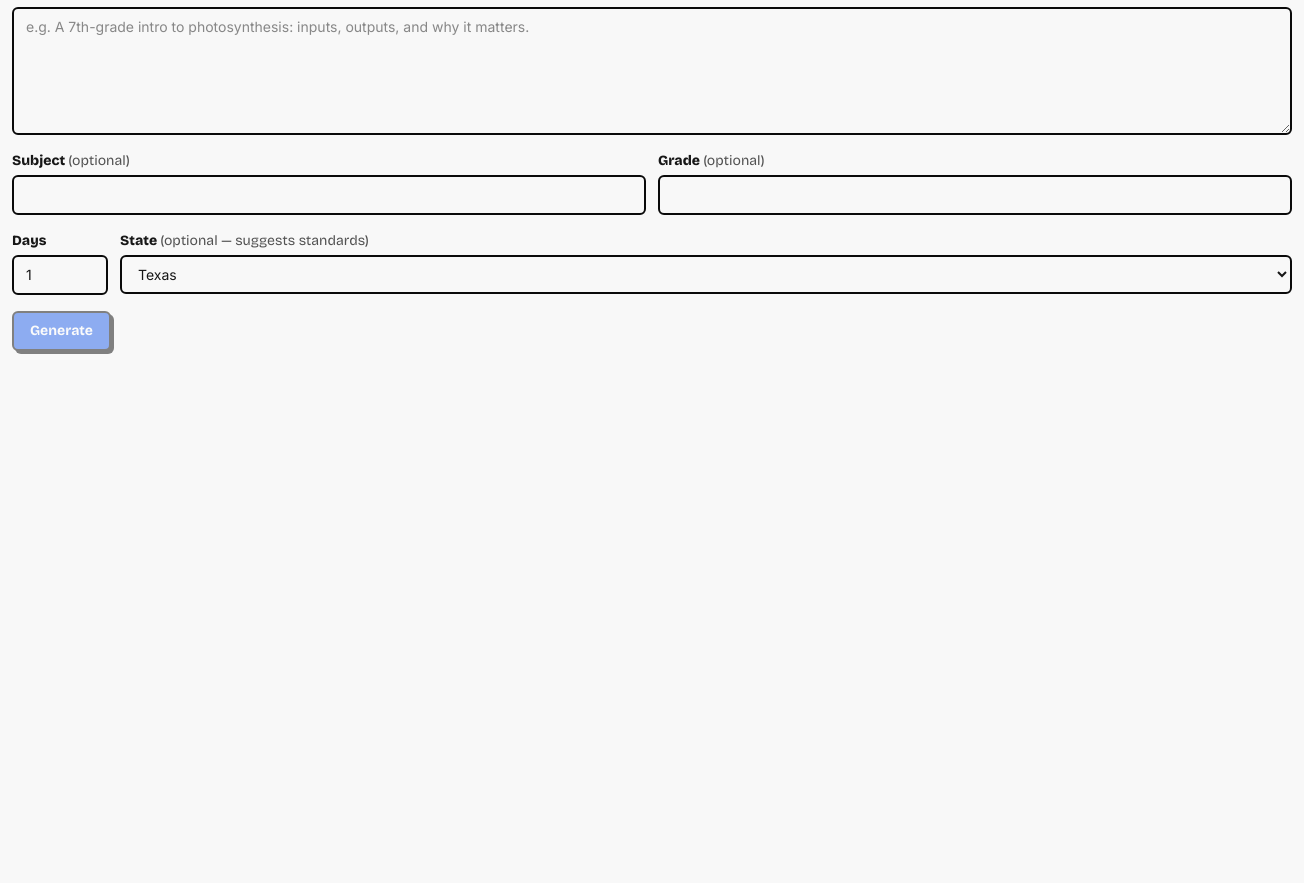
it: GenerateLessonStudio › submits the description + class_id + state and then shows the review editor
Replace the text in the text box labelled "What should this lesson teach?" with "Teach adding fractions": {"x": 652, "y": 71} x1=12 y1=7 x2=1292 y2=135
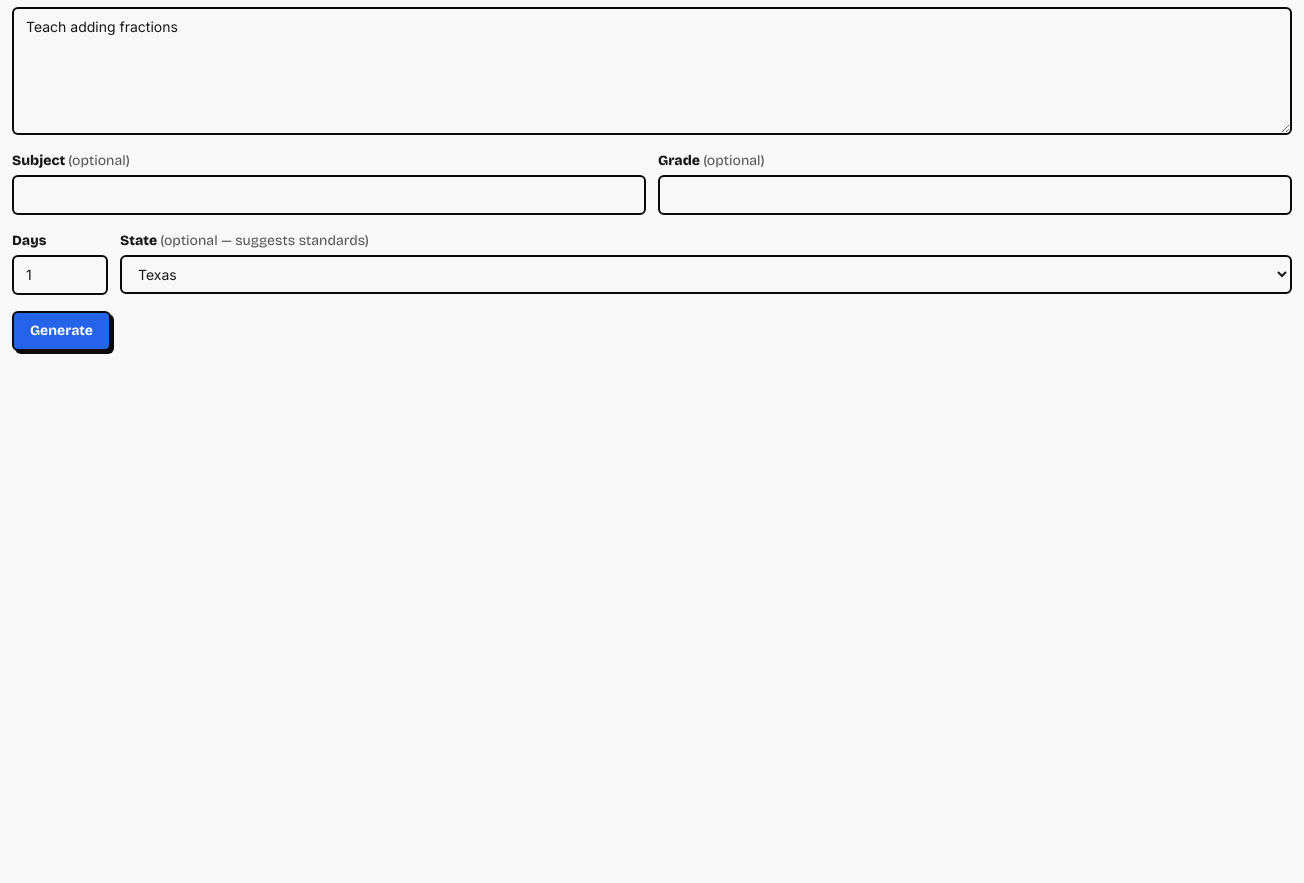
Click the button "Generate": {"x": 62, "y": 331} x1=12 y1=311 x2=111 y2=351
(page scrolled)
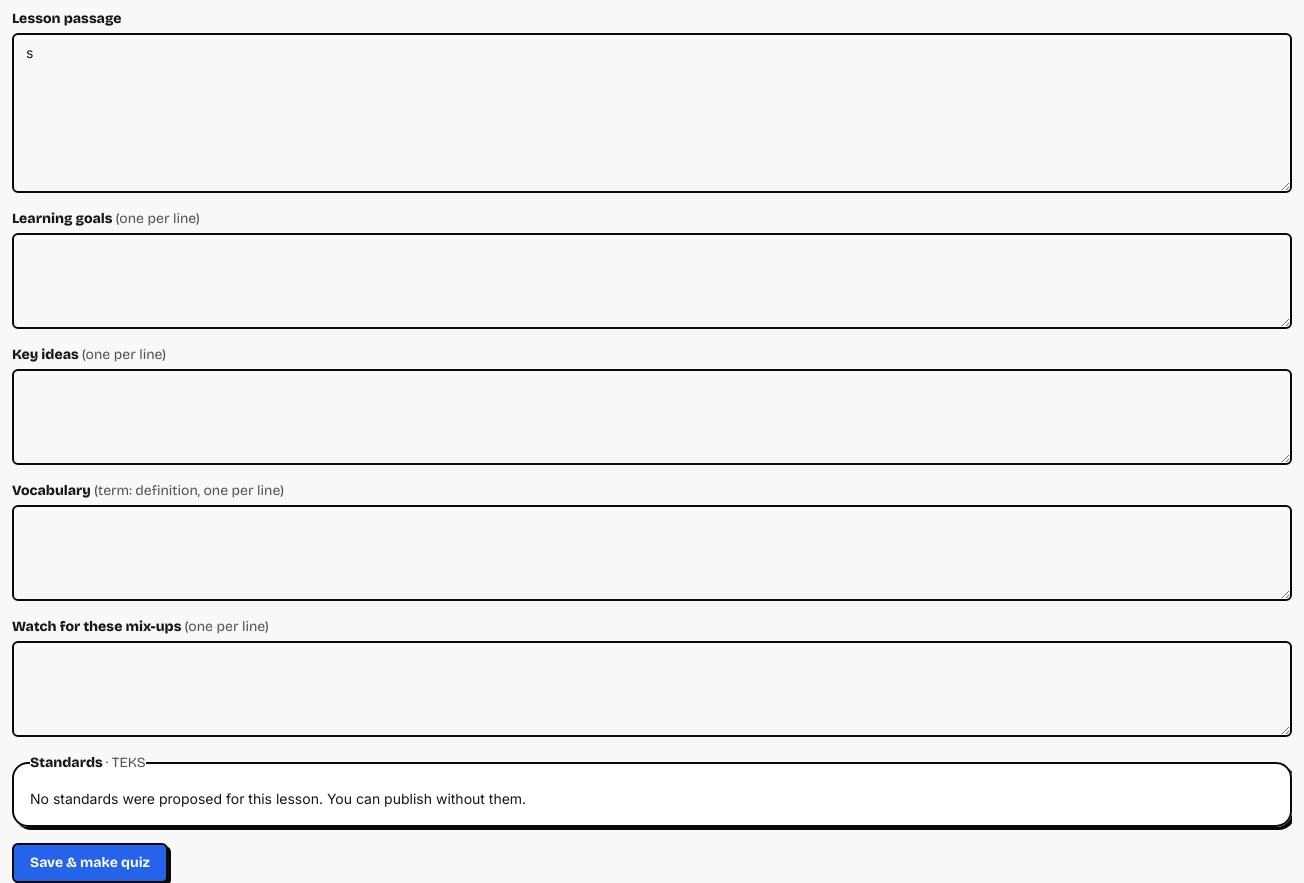
Result: the button "Save & make quiz" is shown at x1=12 y1=843 x2=168 y2=882
